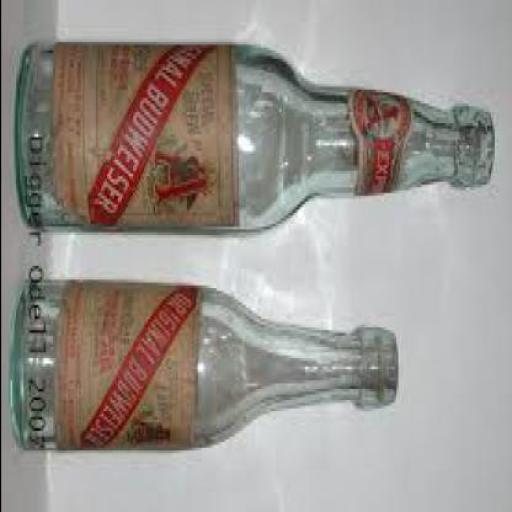glass: (16, 45, 496, 229), (10, 271, 399, 445)
